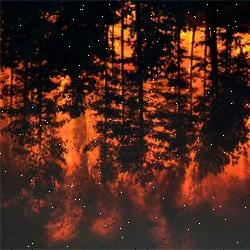fire: (0, 8, 250, 244)
